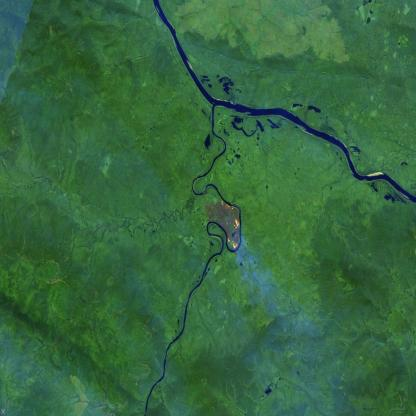fire: (205, 191, 245, 258)
